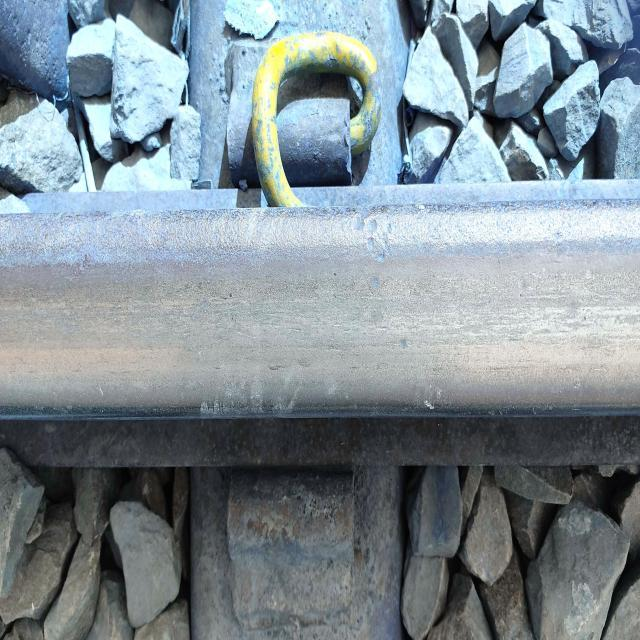Good Fasteners: (222, 19, 385, 223)
Missing Fastener: (211, 456, 392, 640)
